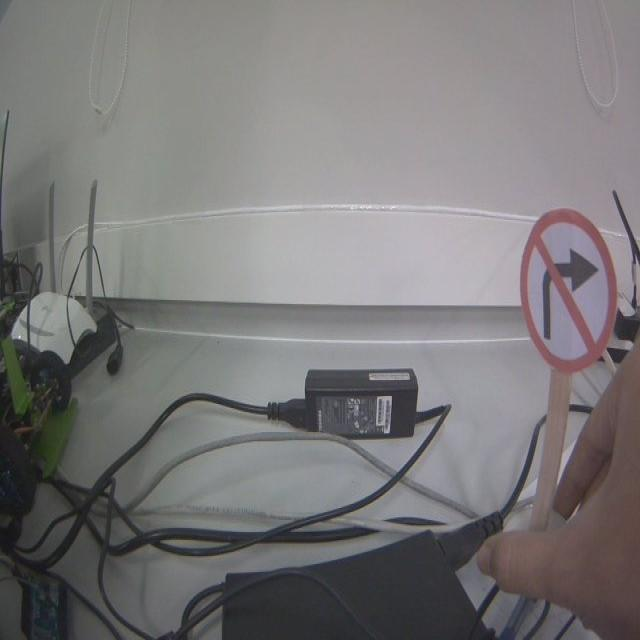Dilarang Belok Kanan: (518, 206, 618, 372)
